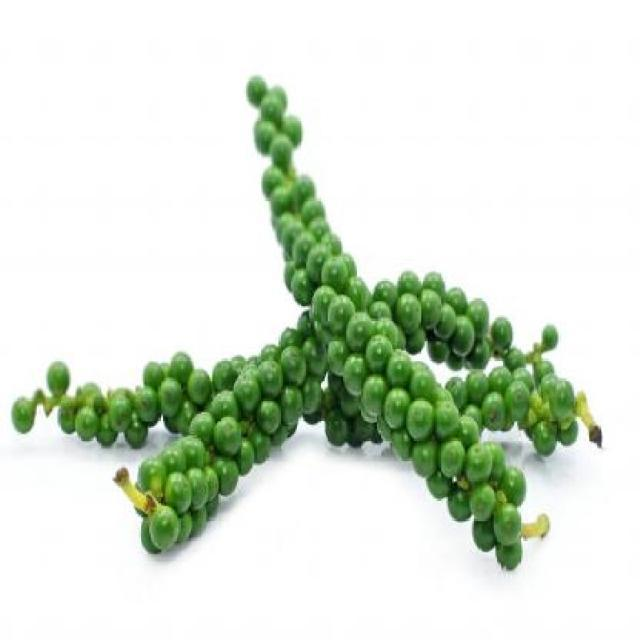UNRIPE: (315, 269, 574, 566), (134, 320, 314, 548), (243, 71, 365, 308), (9, 354, 189, 446)
